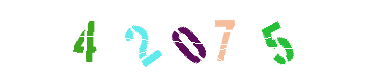2: (147, 0, 227, 80)
4: (103, 0, 183, 80)
5: (170, 0, 250, 80)
7: (150, 0, 230, 80)
O: (149, 0, 229, 80)
